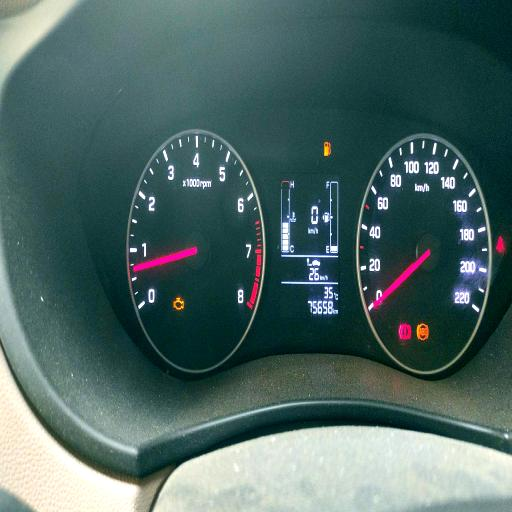belt: (496, 235, 504, 253)
brake_system_fault: (398, 323, 412, 340)
check_engine: (174, 297, 184, 311)
tachometer: (128, 127, 266, 373)
